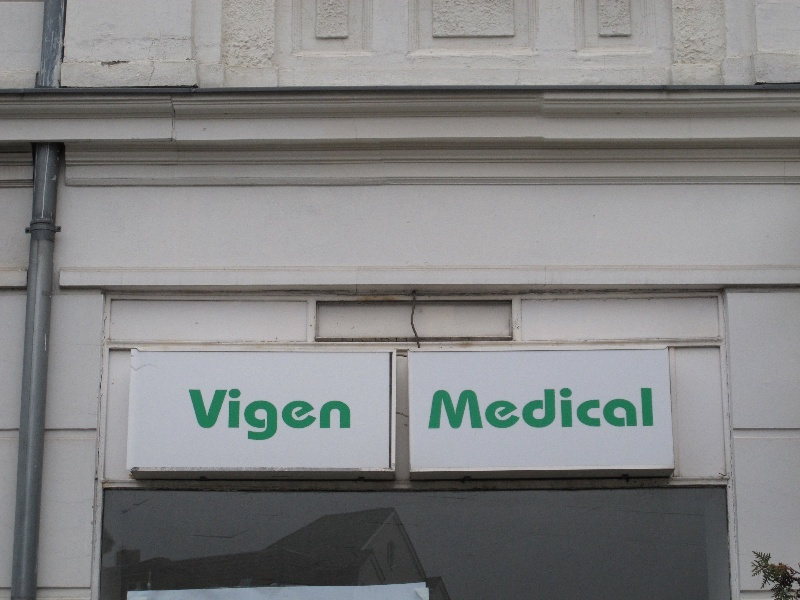text: (193, 388, 208, 449), (209, 388, 224, 449), (225, 388, 240, 449), (241, 388, 256, 449), (257, 388, 272, 449), (273, 388, 288, 449), (289, 388, 304, 449), (305, 388, 320, 449), (321, 388, 336, 449), (337, 388, 351, 449), (449, 388, 464, 430), (465, 388, 480, 430), (481, 388, 496, 430), (497, 388, 512, 430), (513, 388, 528, 430), (529, 388, 544, 430), (545, 388, 560, 430), (561, 388, 576, 430), (577, 388, 592, 430), (593, 388, 608, 430), (609, 388, 624, 430), (625, 388, 640, 430), (434, 388, 448, 430), (641, 388, 654, 430), (188, 388, 192, 449)
